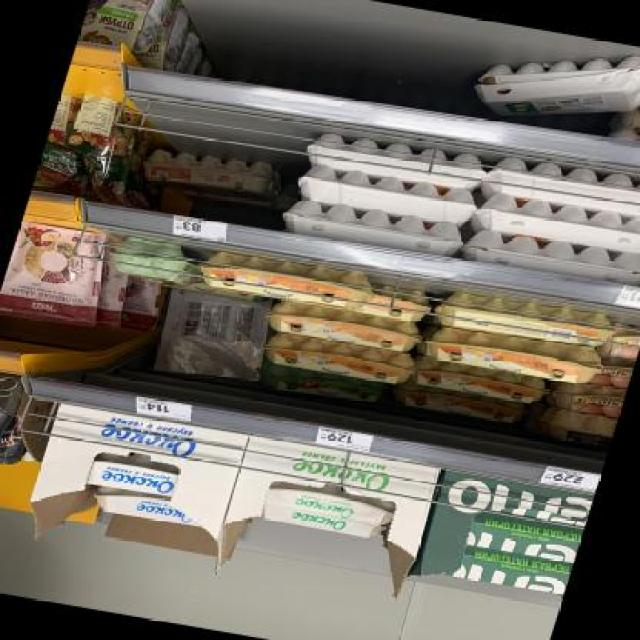Egg: (33, 86, 152, 202), (190, 246, 384, 317), (0, 217, 120, 329), (422, 322, 606, 392), (261, 297, 430, 357), (258, 329, 422, 388), (136, 144, 286, 204), (256, 475, 404, 530), (414, 356, 557, 407), (390, 381, 533, 427), (81, 482, 212, 532), (256, 362, 392, 409), (75, 0, 180, 60), (252, 505, 391, 546), (86, 448, 185, 499), (106, 273, 172, 336), (543, 374, 628, 420), (534, 407, 618, 453), (112, 235, 188, 280), (1, 369, 24, 494), (599, 321, 639, 362), (595, 353, 636, 390)
